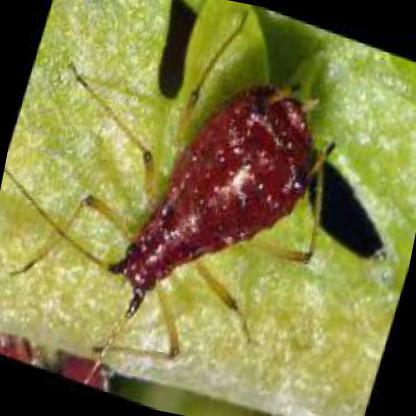uroleucon compositae: (83, 82, 323, 317)
